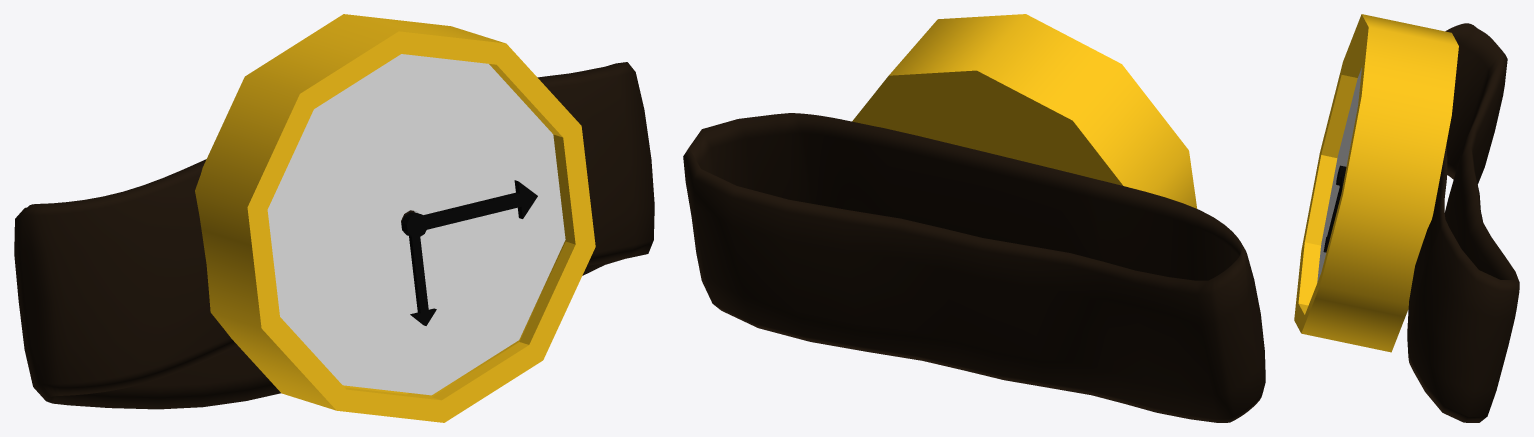
Rendered from Watch.fbx.
The picture shows the model from 3 angles, left to right: view 1: azimuth 30°, elevation 25°; view 2: azimuth 150°, elevation 25°; view 3: azimuth 270°, elevation 25°; orthographic projection. The views are drawn at different scales.
Parts seen in each view (by area): view 1: Line002; view 2: Line002; view 3: Line002.
Part boxes in pixels (<box>): Line002: <box>14,14,654,422</box>; Line002: <box>683,14,1265,422</box>; Line002: <box>1294,14,1519,422</box>.
Size of the model in its own units: 85.32 by 50.06 by 32.8.
